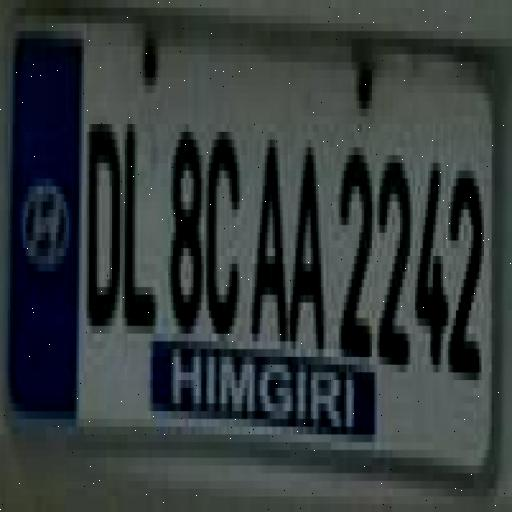number plate: (0, 0, 489, 426)
